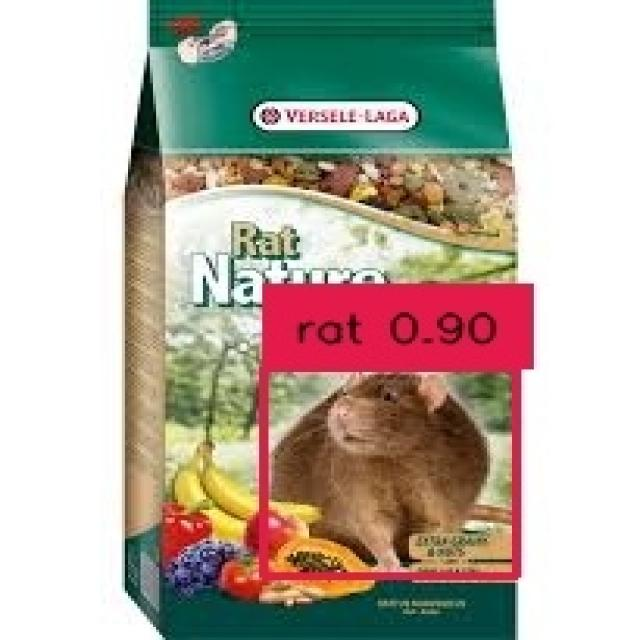rat: (259, 364, 512, 572)
